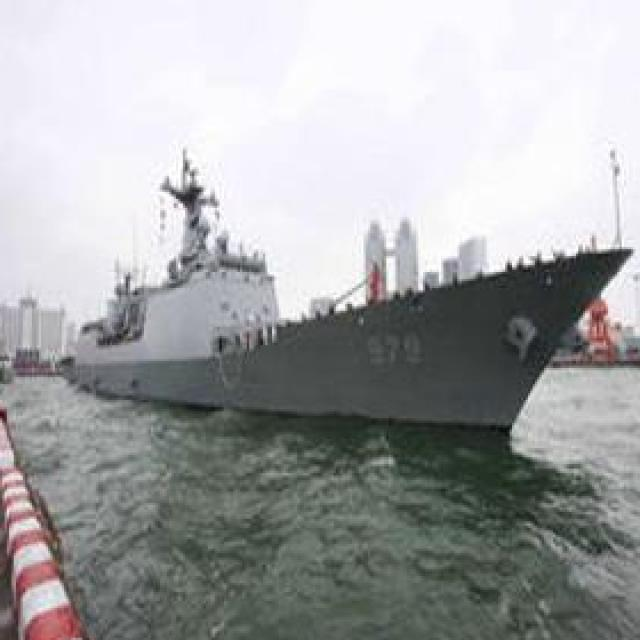navalvessels: (57, 143, 632, 432)
